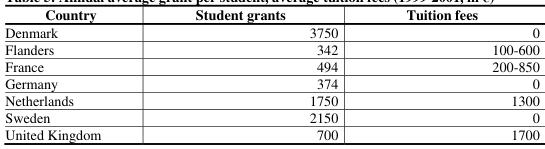table: (4, 4, 538, 142)
table column: (147, 4, 371, 142), (371, 4, 538, 142), (4, 4, 147, 142)
table column header: (4, 4, 538, 22)
table row: (4, 4, 538, 22), (4, 124, 538, 142), (4, 22, 538, 39), (4, 39, 538, 56), (4, 56, 538, 73), (4, 73, 538, 90), (4, 90, 538, 107), (4, 107, 538, 124)
